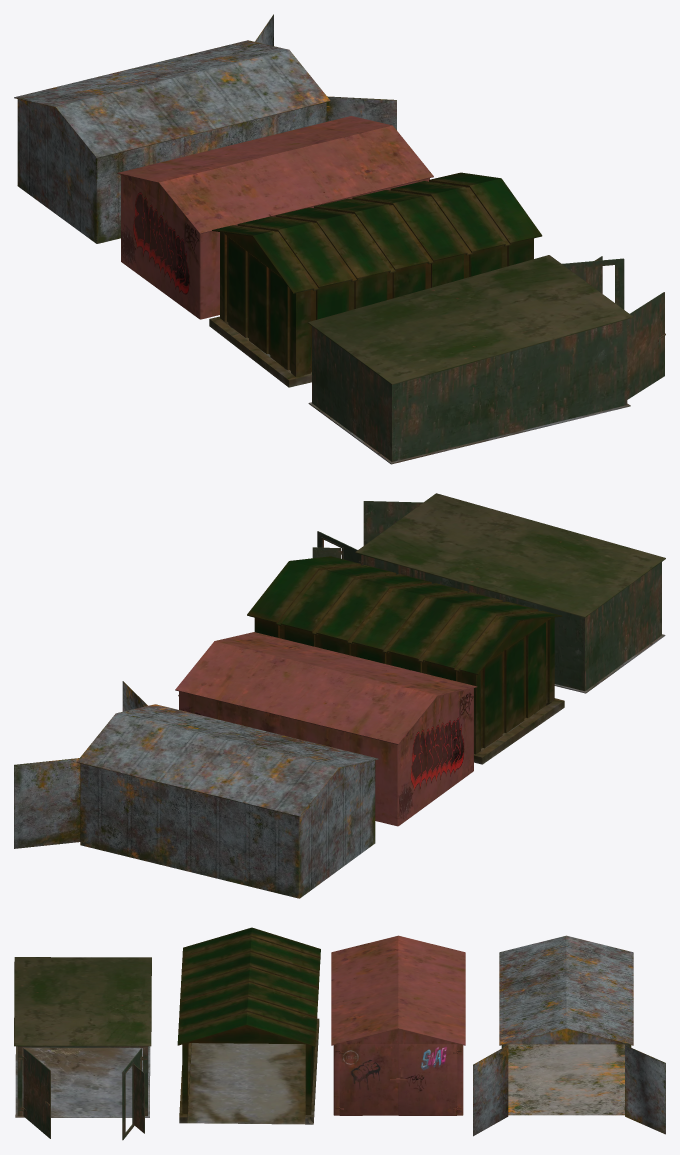
File: garSov.glb
3 renders of one model, top to bottom at view 1: azimuth 30°, elevation 25°; view 2: azimuth 150°, elevation 25°; view 3: azimuth 270°, elevation 25°, orthographic. The views are drawn at different scales.
Parts seen in each view (by area): view 1: garage_3_garage_4_0, garage_1_garage_1_0, garage_4_Test_0, Dveri_garage_n2_0; view 2: garage_4_Test_0, garage_3_garage_4_0, garage_1_garage_1_0, Dveri_garage_n2_0; view 3: garage_4_Test_0, garage_1_garage_1_0, Dveri_garage_n2_0, garage_3_garage_4_0.
Boxes of the visible parts, x1=… form: garage_3_garage_4_0: x1=308, y1=255, x2=665, y2=464; garage_1_garage_1_0: x1=209, y1=172, x2=542, y2=387; garage_4_Test_0: x1=14, y1=14, x2=396, y2=243; Dveri_garage_n2_0: x1=117, y1=116, x2=433, y2=319; garage_4_Test_0: x1=14, y1=681, x2=378, y2=898; garage_3_garage_4_0: x1=312, y1=493, x2=665, y2=693; garage_1_garage_1_0: x1=247, y1=556, x2=564, y2=764; Dveri_garage_n2_0: x1=175, y1=632, x2=477, y2=826; garage_4_Test_0: x1=473, y1=935, x2=665, y2=1136; garage_1_garage_1_0: x1=177, y1=927, x2=320, y2=1124; Dveri_garage_n2_0: x1=331, y1=935, x2=465, y2=1115; garage_3_garage_4_0: x1=14, y1=957, x2=151, y2=1140.
Bounding box in the file's own units: 7.12 × 2.75 × 16.56.
4 materials, 4 textured.
